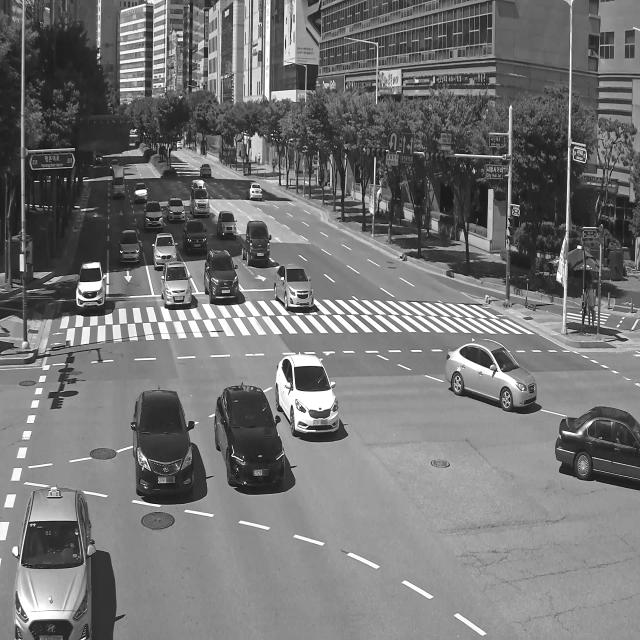Car: (10, 467, 99, 640), (437, 315, 542, 431), (210, 373, 290, 513), (126, 373, 202, 512), (258, 331, 342, 443), (203, 242, 250, 322), (71, 253, 117, 328), (270, 259, 318, 325), (161, 252, 195, 322), (180, 215, 207, 255), (151, 228, 178, 268), (117, 229, 143, 268), (187, 172, 210, 216), (212, 206, 239, 242), (142, 197, 163, 231), (165, 194, 187, 226), (245, 176, 267, 207), (130, 178, 147, 202), (198, 162, 216, 182)
Truck: (241, 218, 272, 266), (110, 164, 128, 206)
